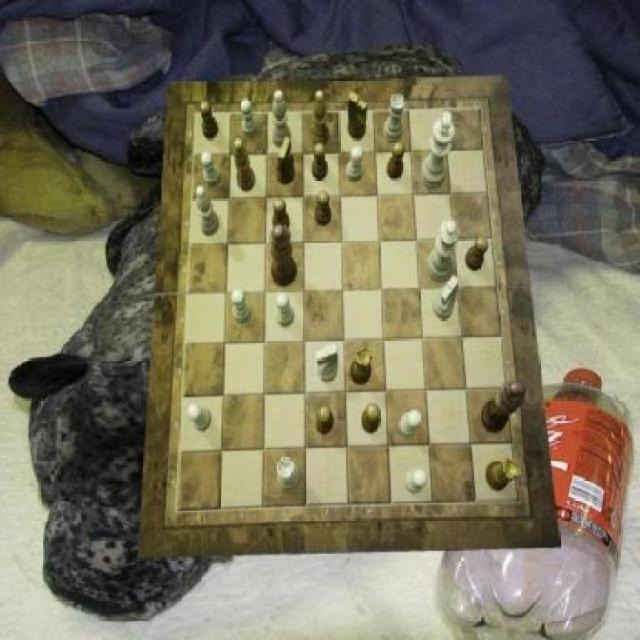bishop: (234, 138, 256, 192), (311, 89, 330, 147)
black-bishop: (482, 379, 526, 433)
black-king: (277, 137, 297, 185), (348, 92, 368, 140)
black-knight: (464, 235, 488, 270), (200, 102, 220, 140), (388, 142, 405, 179), (272, 199, 290, 233), (312, 143, 328, 181), (315, 404, 333, 436), (316, 190, 332, 226), (362, 403, 379, 434)
black-pawn: (271, 224, 298, 288)
black-queen: (486, 458, 520, 492), (351, 348, 374, 386)
black-rook: (196, 184, 220, 236), (272, 91, 292, 149)
white-bishop: (420, 111, 455, 189)
white-king: (434, 275, 460, 321), (317, 343, 340, 382)
white-knight: (240, 98, 259, 138), (232, 289, 252, 324), (202, 152, 222, 187), (188, 405, 212, 432), (276, 292, 294, 327), (400, 411, 423, 438), (404, 468, 428, 493), (346, 148, 363, 182)
white-pawn: (428, 218, 460, 282)
white-queen: (384, 94, 406, 143), (277, 457, 300, 491)
